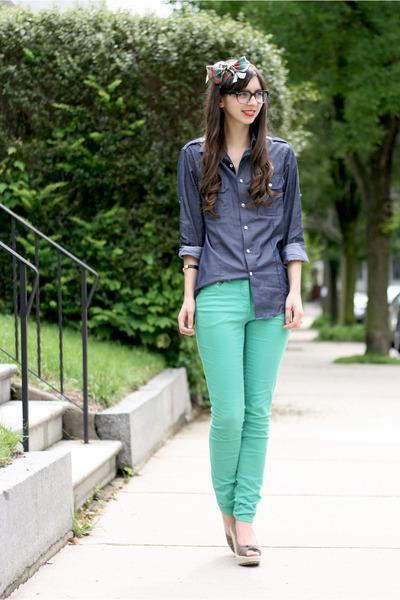pants: (194, 281, 288, 567)
shirt: (175, 132, 312, 323)
